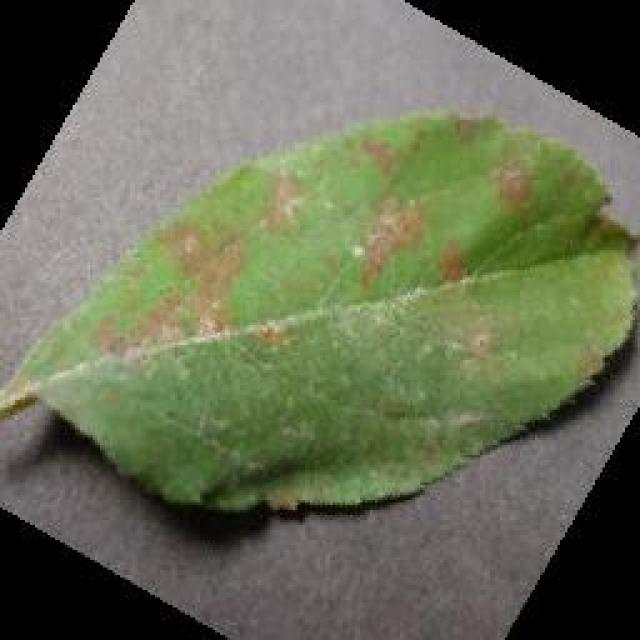apple healthy: (0, 108, 638, 518)
